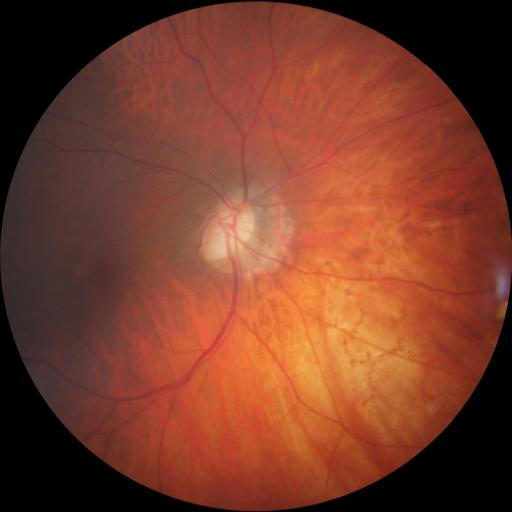Optic Disc: (187, 190, 257, 264)
